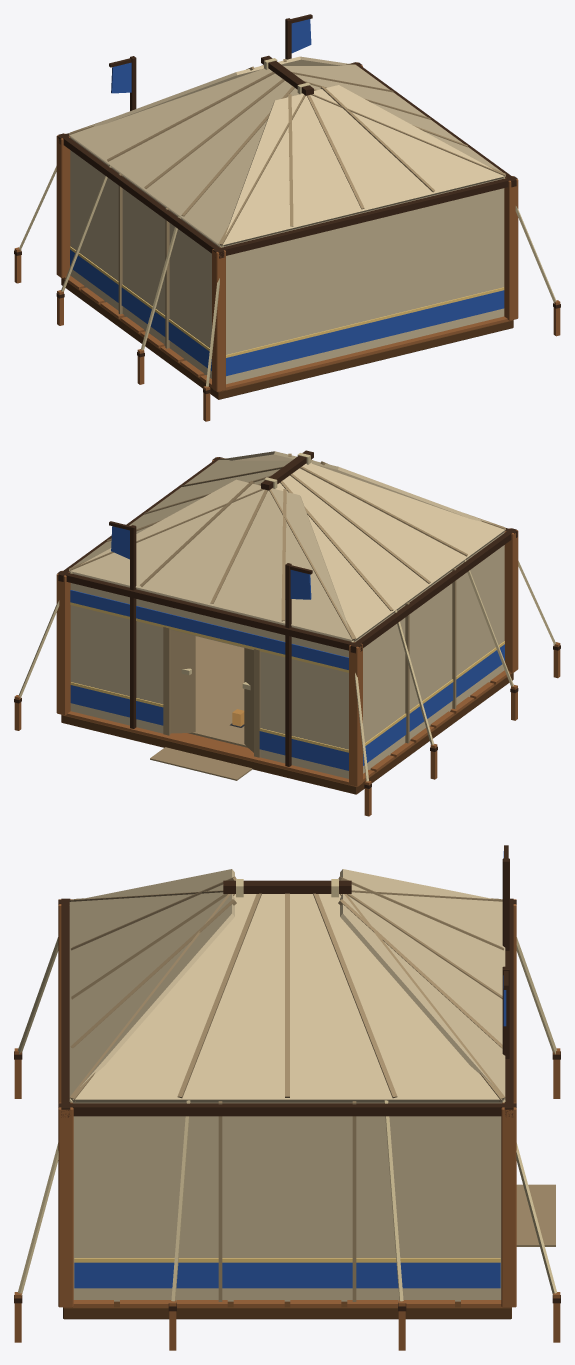
File: 豪华帐篷_手游_近.glb
The picture shows the model from 3 angles, top to bottom: view 1: azimuth 30°, elevation 25°; view 2: azimuth 150°, elevation 25°; view 3: azimuth 270°, elevation 25°; orthographic projection. The views are drawn at different scales.
Parts seen in each view (by area): view 1: TN3-主体, TN3-team, TN3-team_trim; view 2: TN3-主体, TN3-team, TN3-team_trim; view 3: TN3-主体, TN3-team, TN3-team_trim.
Part boxes in pixels (x1,y1,x2,y2): TN3-主体: (14, 14, 560, 421); TN3-team: (70, 19, 504, 376); TN3-team_trim: (70, 246, 504, 357); TN3-主体: (14, 450, 560, 816); TN3-team: (70, 526, 504, 770); TN3-team_trim: (70, 602, 504, 752); TN3-主体: (14, 845, 560, 1350); TN3-team: (74, 851, 506, 1288); TN3-team_trim: (74, 1258, 500, 1262).
Bounding box in the file's own units: 6.53 × 3.89 × 5.73.
4 materials, 2 textured.
